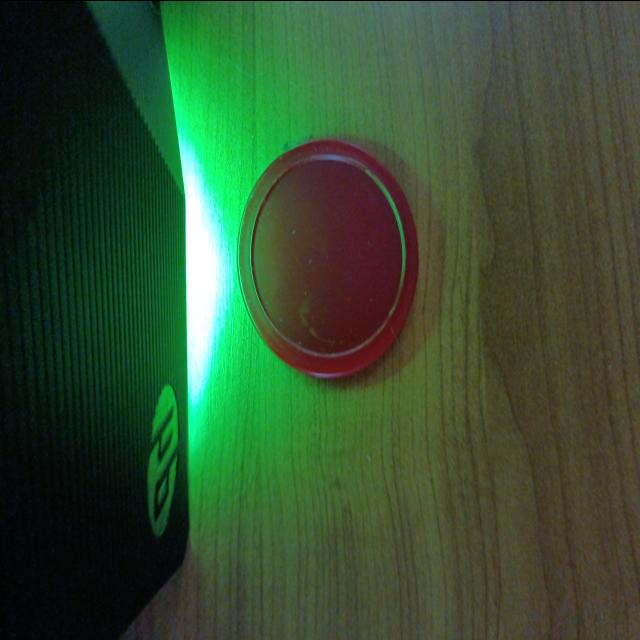chip: (234, 128, 423, 384)
